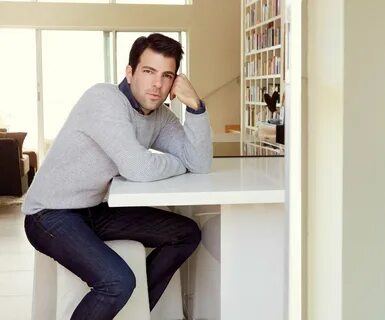awake: (20, 31, 214, 320)
